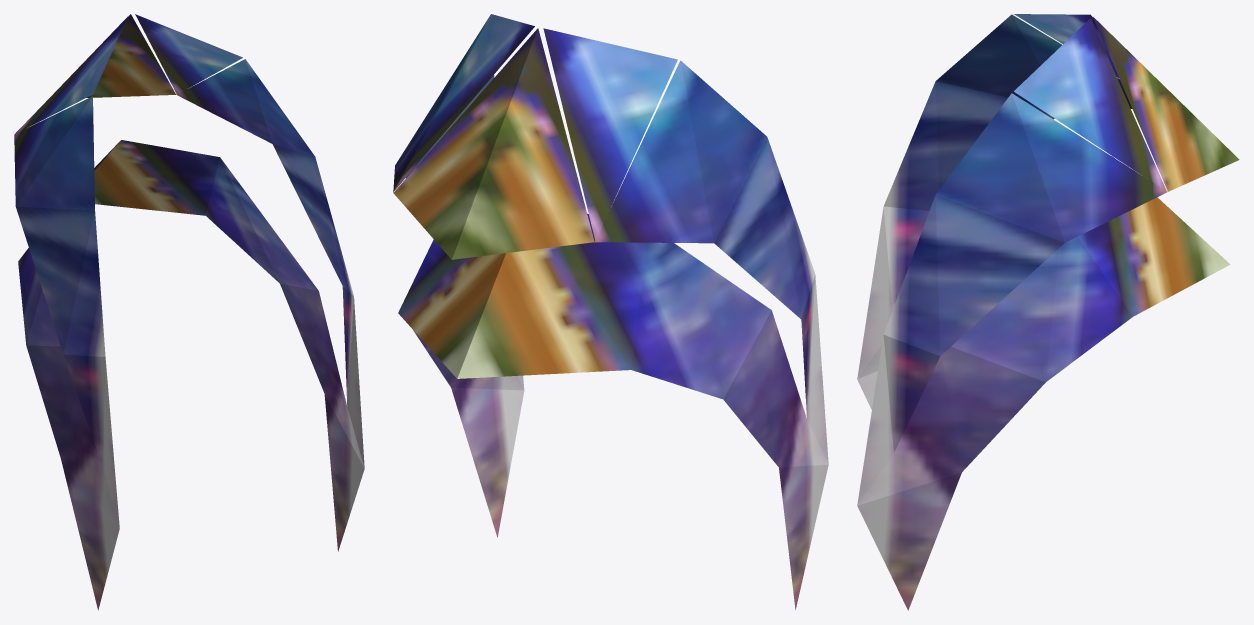
The picture shows the model from 3 angles, left to right: view 1: azimuth 30°, elevation 25°; view 2: azimuth 150°, elevation 25°; view 3: azimuth 270°, elevation 25°; orthographic projection. The views are drawn at different scales.
Parts seen in each view (by area): view 1: Object001; view 2: Object001; view 3: Object001.
Boxes of the visible parts, x1,y1,x2,y2 form: Object001: (14, 14, 364, 610); Object001: (393, 14, 828, 609); Object001: (857, 14, 1239, 610).
Bounding box in the file's own units: 16.84 × 29.03 × 18.89.
